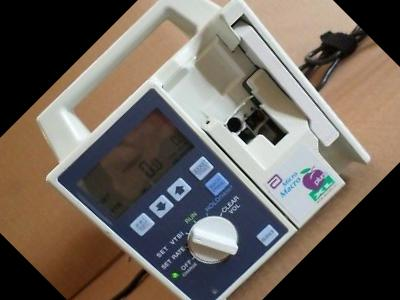plumxl1: (45, 15, 370, 277)
